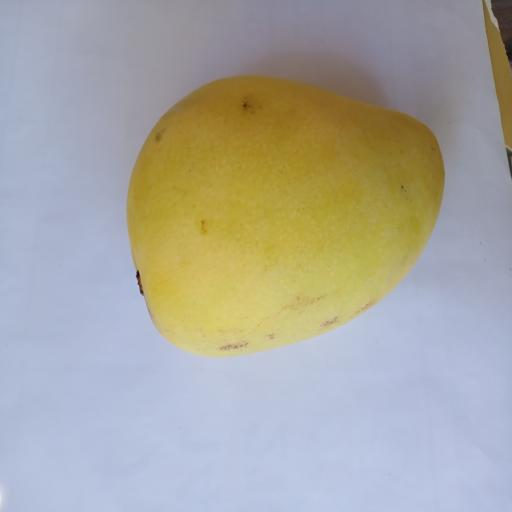mango-ripe: (103, 53, 455, 375)
